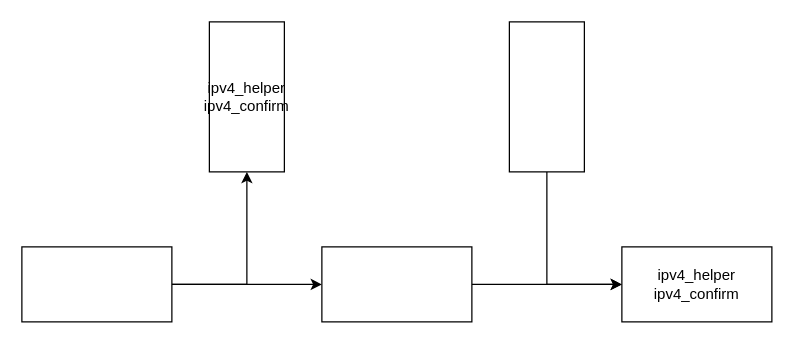
Image size: 794x344. Some labels were removed from this diagram. Each missing label, with the centre of its shape:
"ipv4_conntrack_in" belongs at pixel 96 284.
"ipv4_conntrack_local" belongs at pixel 546 96.
